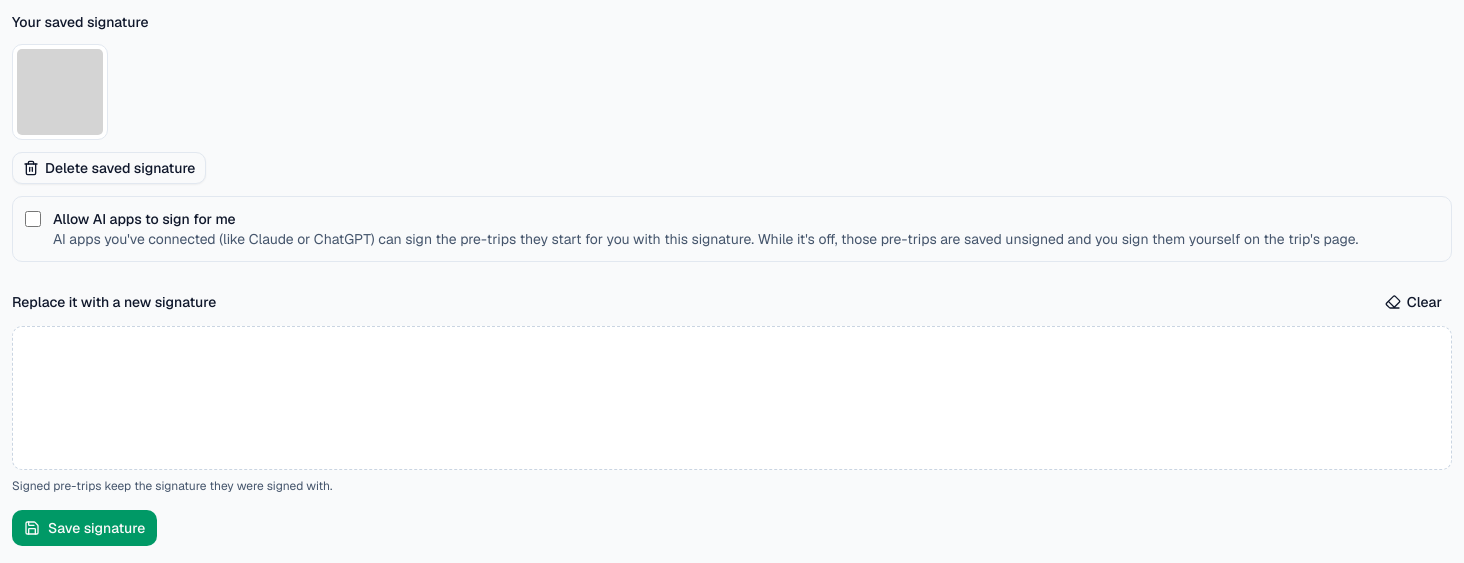
Test: SignatureSettings › shows the saved signature and deletes it
Expected: the text "Replace it with a new signature" is shown, x1=12 y1=292 x2=216 y2=312
Click the button "Delete saved signature": [109, 168] box x1=12 y1=152 x2=206 y2=184
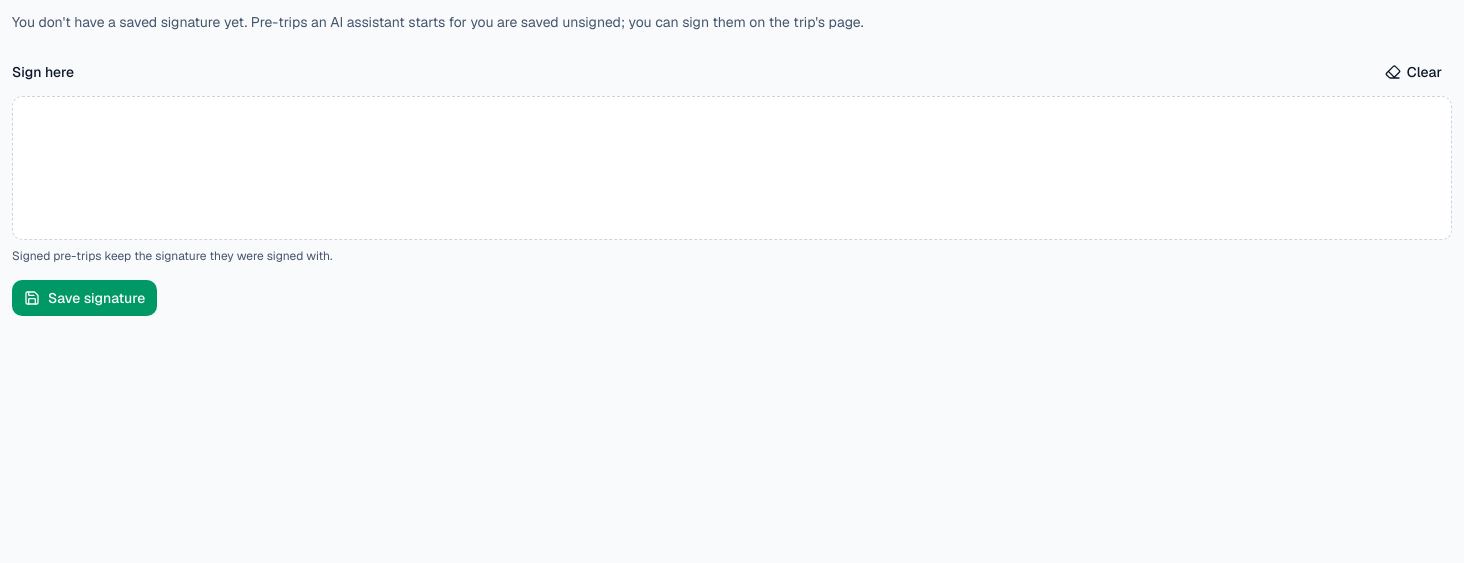
Result: the text "You don't have a saved signature yet" is shown at x1=12 y1=13 x2=864 y2=31
